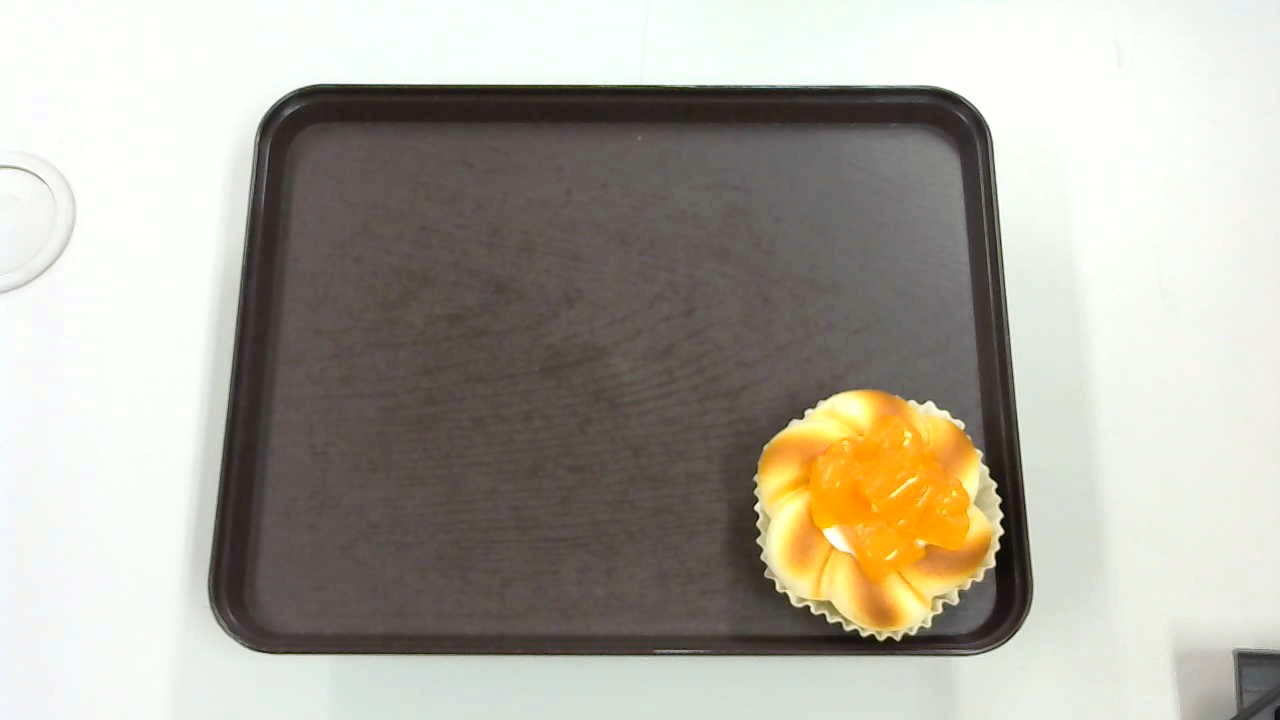mango tart: (754, 388, 1004, 639)
